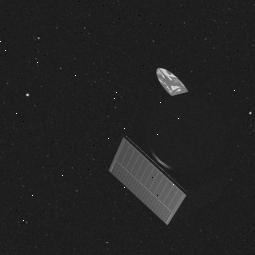cheops: (98, 58, 221, 224)
